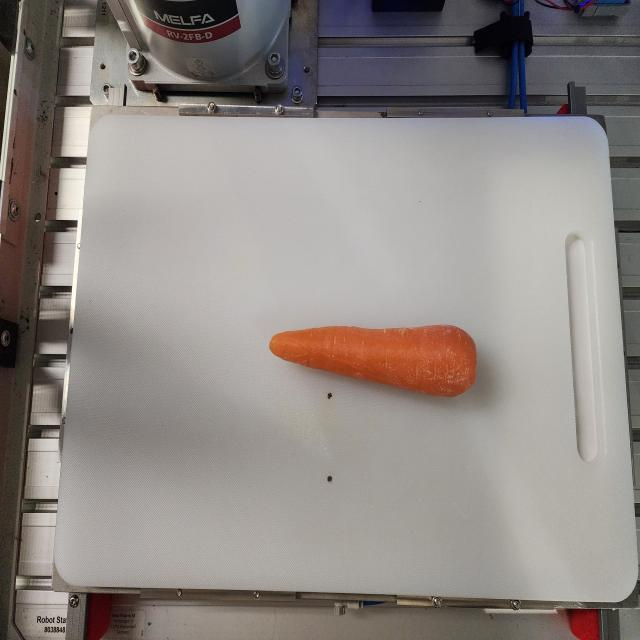carrot: (269, 323, 477, 398)
